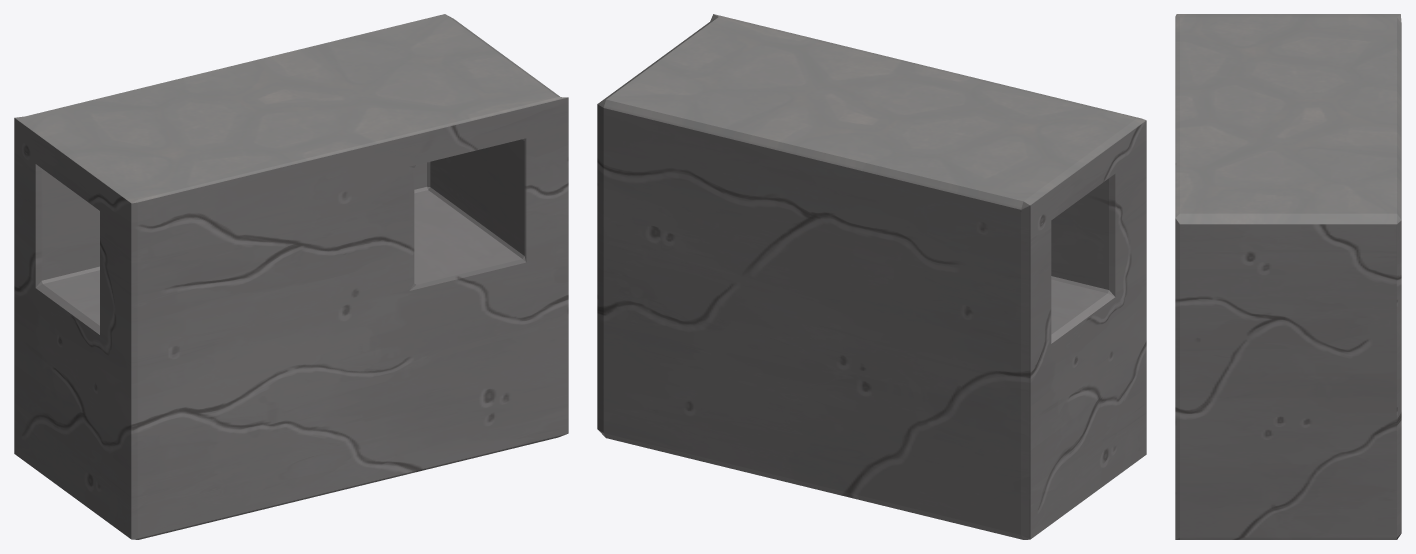
The model's file is platform5.fbx.
3 views of the same model, side by side, from view 1: azimuth 30°, elevation 25°; view 2: azimuth 150°, elevation 25°; view 3: azimuth 270°, elevation 25° (orthographic). The views are drawn at different scales.
Parts seen in each view (by area): view 1: Cube.045; view 2: Cube.045; view 3: Cube.045.
Part boxes in pixels (<box>): Cube.045: <box>14,14,568,539</box>; Cube.045: <box>597,14,1146,539</box>; Cube.045: <box>1175,14,1401,539</box>.
Size of the model in its own units: 9.12 by 6.79 by 4.27.
